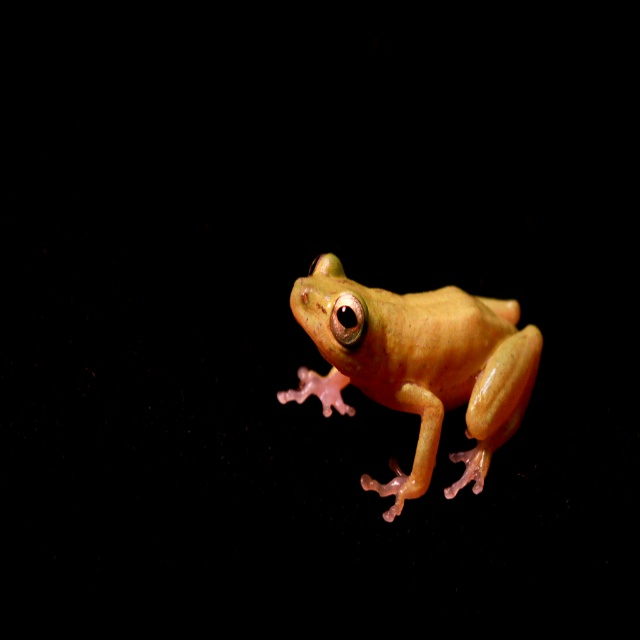Frog: (277, 258, 544, 520)
